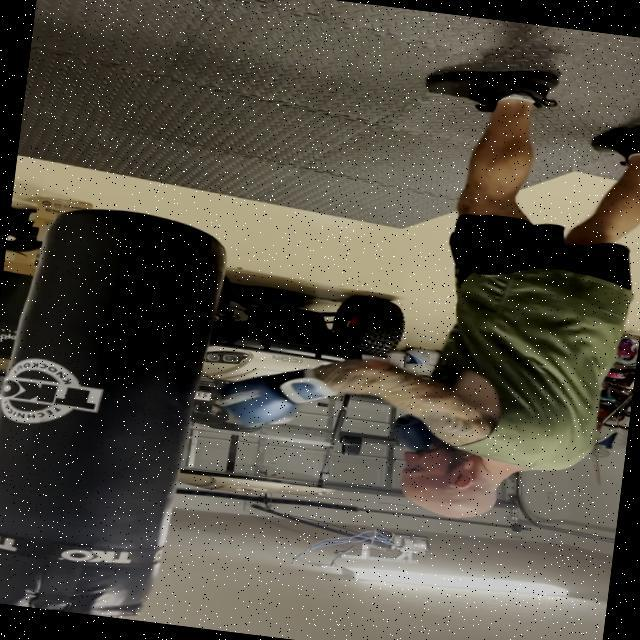bag: (0, 191, 208, 622)
jab: (156, 311, 636, 554)
